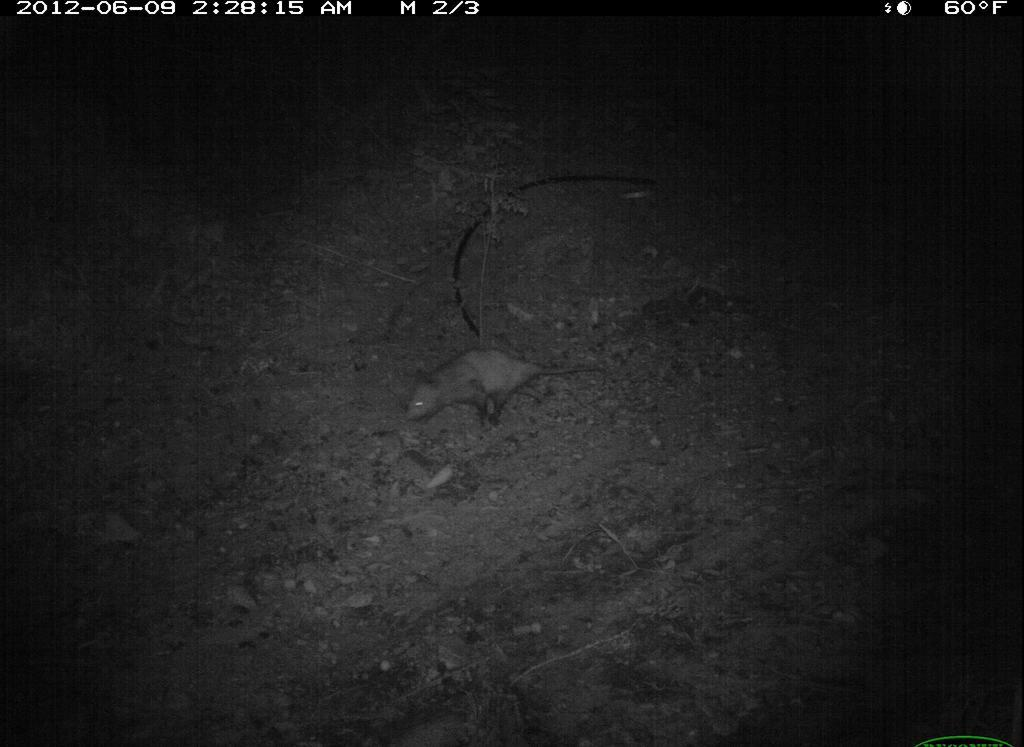opossum: (396, 344, 611, 437)
